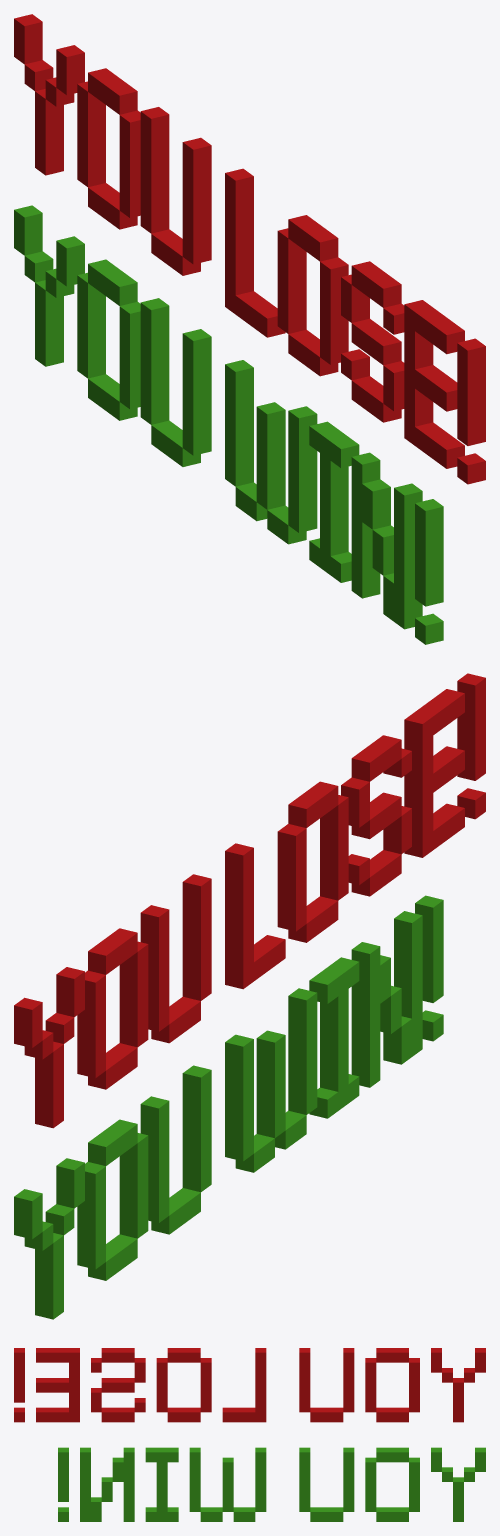
File: YouLoseText-1.obj
3 renders of one model, top to bottom at view 1: azimuth 30°, elevation 25°; view 2: azimuth 150°, elevation 25°; view 3: azimuth 270°, elevation 25°, orthographic. The views are drawn at different scales.
Size of the model in its own units: 0.1 by 1.7 by 4.3.
1 material, 1 textured.
